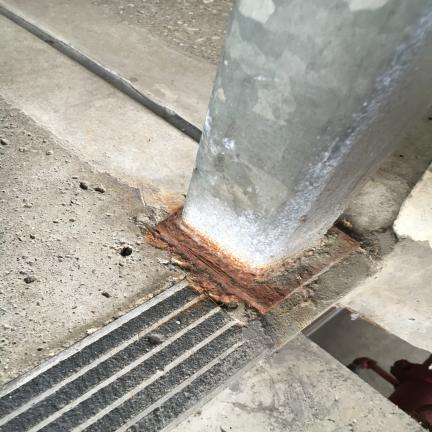karat: (147, 208, 358, 313)
